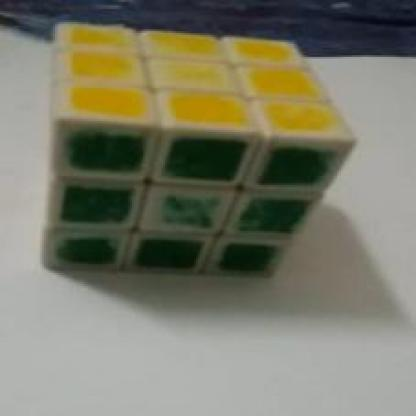cube: (38, 16, 338, 315)
